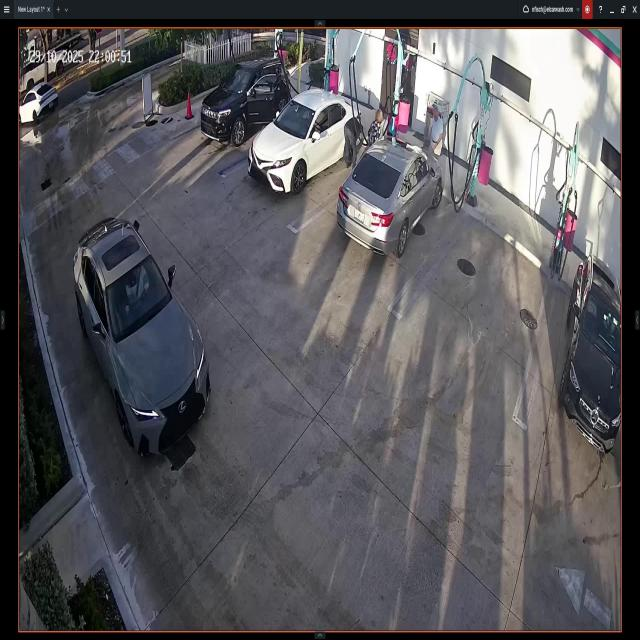Car: (76, 218, 211, 460), (338, 140, 442, 255), (252, 88, 364, 192), (571, 253, 622, 452), (201, 58, 292, 146), (20, 78, 59, 128)
